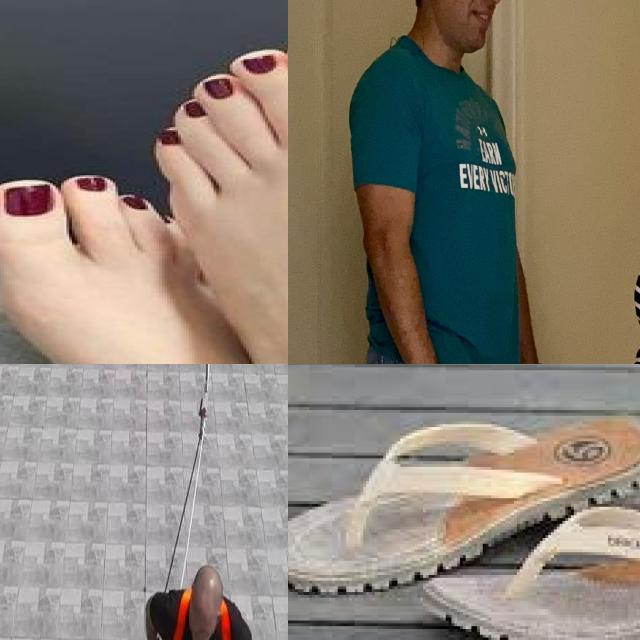Barefoots: (153, 31, 288, 364)
Harness: (167, 364, 212, 590)
Sandals: (288, 364, 640, 640)
